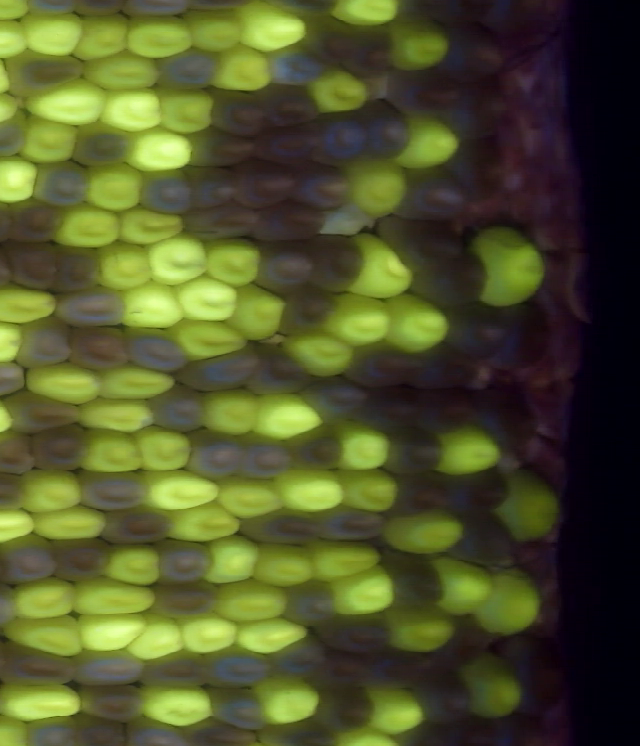fluorescent: (471, 219, 549, 312), (493, 467, 569, 545), (338, 229, 419, 302), (19, 72, 119, 131), (473, 563, 546, 642), (458, 649, 529, 724), (336, 154, 410, 224), (425, 419, 508, 481), (163, 313, 255, 368), (382, 288, 454, 356), (380, 12, 454, 78), (59, 570, 162, 617), (221, 281, 294, 347), (247, 670, 327, 730), (383, 506, 470, 560), (77, 47, 170, 97), (0, 609, 91, 660), (76, 155, 149, 218), (380, 601, 462, 657), (22, 357, 107, 411), (392, 111, 463, 174), (428, 556, 500, 618), (133, 680, 224, 729), (70, 422, 148, 479), (48, 197, 127, 253), (144, 231, 216, 292), (89, 357, 184, 403), (234, 1, 308, 60), (7, 463, 88, 516), (250, 390, 331, 443), (11, 110, 85, 168), (320, 291, 398, 346), (326, 562, 401, 619), (139, 464, 228, 512), (210, 471, 292, 523), (197, 232, 266, 293), (120, 11, 199, 64), (212, 573, 294, 624), (7, 572, 84, 626), (117, 125, 198, 176), (229, 612, 316, 659), (0, 677, 85, 725), (279, 329, 359, 380), (357, 682, 431, 737), (170, 273, 244, 328), (114, 280, 189, 334), (176, 6, 252, 59), (70, 607, 152, 656), (196, 531, 265, 589), (304, 539, 389, 586), (163, 498, 249, 544), (120, 610, 196, 662), (272, 465, 351, 515), (95, 83, 168, 137), (203, 40, 274, 95), (329, 418, 398, 474), (327, 465, 402, 516), (70, 394, 161, 436), (194, 384, 263, 439), (17, 8, 87, 62), (71, 8, 137, 65), (154, 80, 219, 137), (97, 538, 167, 590), (248, 542, 322, 591), (93, 237, 160, 291), (111, 203, 186, 251), (171, 610, 249, 656), (130, 423, 200, 474), (29, 503, 116, 543), (301, 67, 373, 115), (321, 1, 407, 34), (0, 282, 61, 327), (0, 152, 42, 207), (0, 501, 42, 549), (0, 15, 31, 62), (0, 711, 38, 746)
nonfluorescent: (373, 538, 451, 612), (380, 212, 471, 274), (430, 20, 509, 88), (485, 298, 557, 372), (473, 378, 546, 450), (408, 251, 494, 312), (174, 342, 269, 397), (443, 73, 517, 143), (1, 47, 90, 105), (452, 507, 523, 578), (494, 632, 554, 715), (396, 161, 474, 224), (0, 637, 83, 696), (241, 339, 321, 399), (382, 66, 462, 123), (444, 137, 513, 203), (179, 423, 251, 486), (301, 232, 371, 296), (247, 196, 331, 248), (179, 197, 264, 248), (300, 370, 376, 426), (442, 463, 518, 519), (440, 301, 512, 360), (310, 609, 398, 657), (152, 535, 226, 592), (241, 504, 327, 553), (287, 161, 366, 214), (66, 644, 155, 691), (480, 1, 567, 49), (249, 238, 322, 295), (354, 96, 414, 165), (184, 126, 270, 174), (402, 670, 478, 724), (0, 389, 89, 435), (408, 339, 481, 395), (52, 284, 133, 334), (230, 154, 301, 211), (337, 19, 402, 81), (380, 469, 453, 524), (11, 314, 79, 373), (347, 337, 424, 389), (62, 321, 137, 374), (74, 467, 158, 514), (46, 532, 117, 587), (135, 647, 218, 694), (0, 194, 72, 248), (97, 502, 183, 547), (376, 425, 449, 478), (358, 644, 442, 690), (122, 320, 192, 375), (407, 384, 481, 436), (274, 284, 341, 341), (312, 109, 372, 172), (433, 610, 504, 663), (352, 385, 435, 430), (256, 78, 325, 132), (0, 532, 62, 592), (203, 686, 277, 736), (305, 643, 379, 693), (203, 84, 270, 139), (72, 119, 140, 173), (139, 579, 223, 622), (47, 241, 115, 294), (202, 643, 277, 691), (267, 633, 337, 684), (25, 421, 95, 471), (146, 383, 212, 436), (154, 45, 225, 94), (296, 10, 358, 66), (257, 123, 329, 171), (314, 502, 390, 547), (29, 160, 96, 211), (76, 681, 153, 725), (260, 41, 326, 90), (8, 239, 64, 296), (236, 430, 299, 480), (278, 578, 342, 626), (253, 713, 344, 746), (395, 1, 498, 30), (138, 169, 197, 219), (180, 164, 243, 210), (117, 710, 195, 746), (289, 425, 349, 469), (182, 713, 260, 746), (63, 711, 136, 746), (22, 711, 81, 746), (0, 108, 36, 164), (0, 430, 38, 479), (0, 463, 33, 514), (0, 354, 31, 404)
